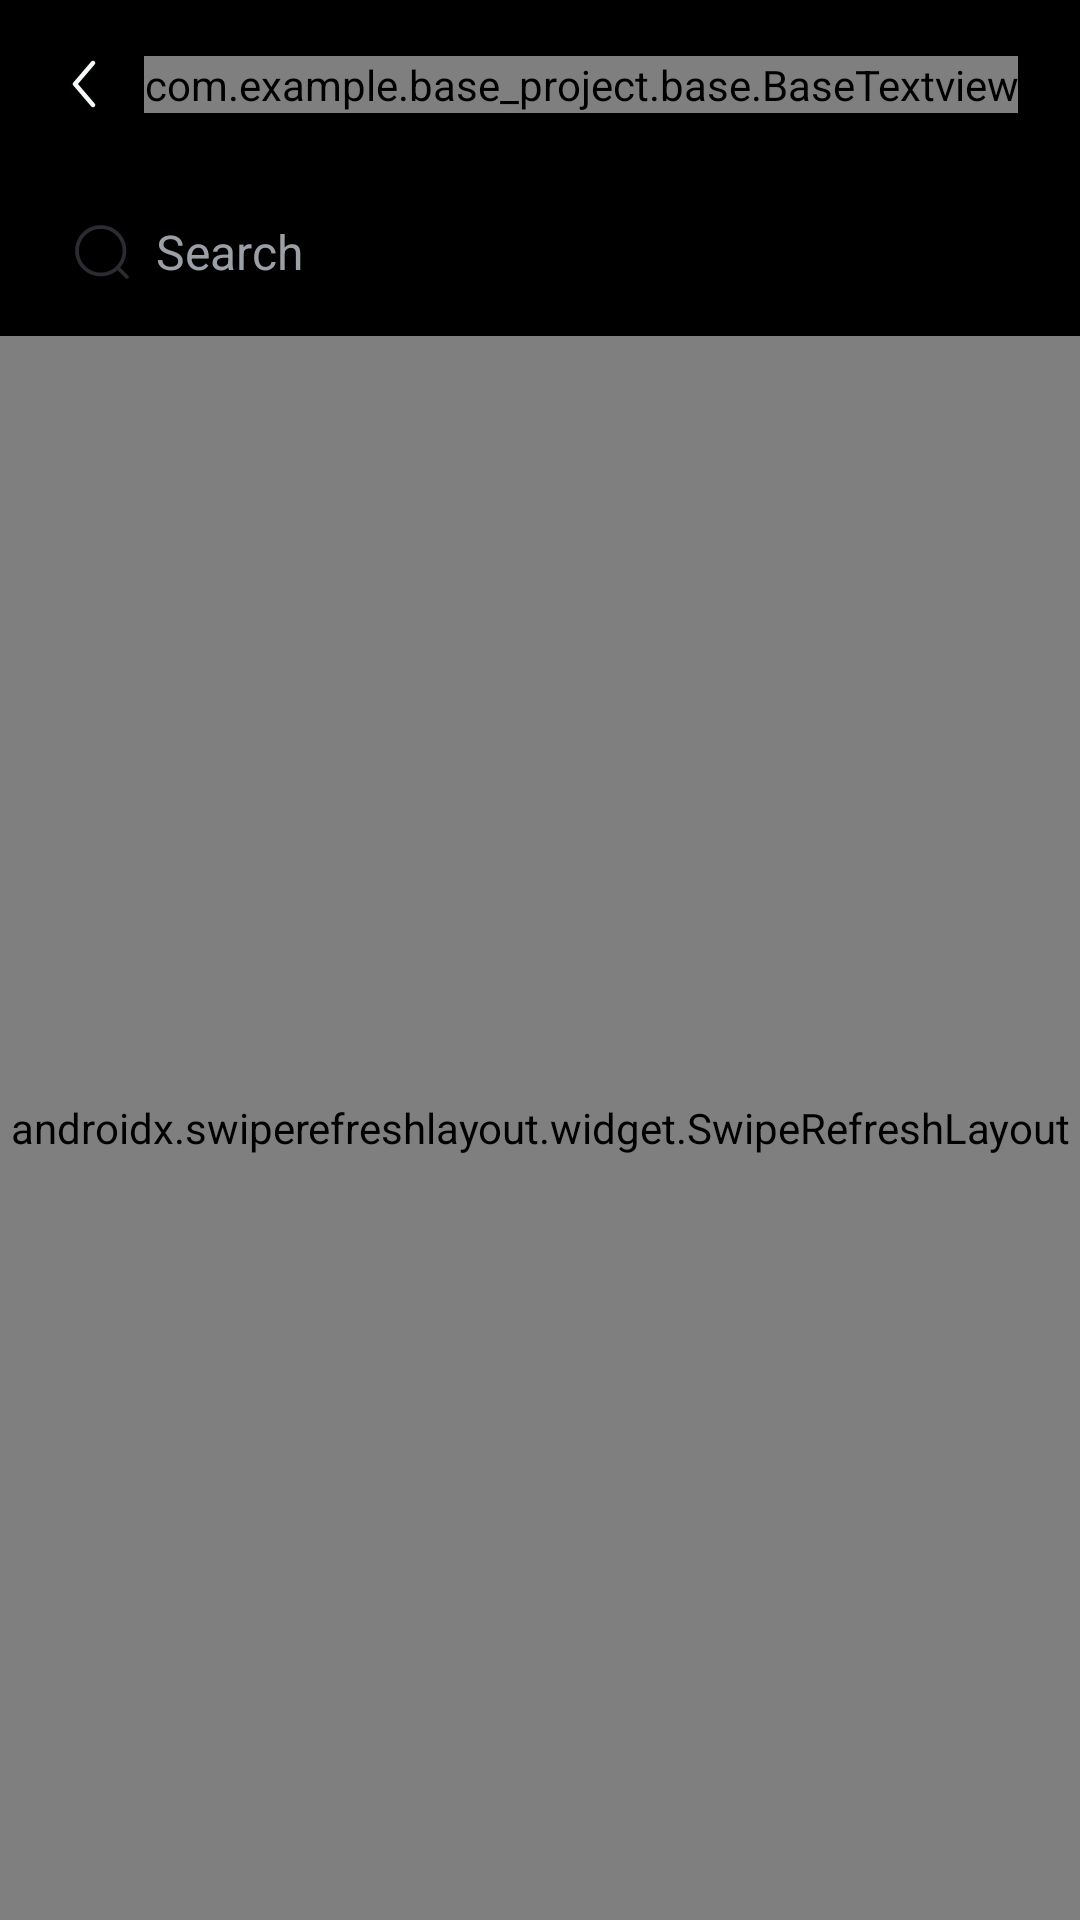

Named icons in this screenshot (1080 x 1920) and their bounding boxes, Rect(x1, y1, x2, y2):
back: Rect(72, 60, 96, 108)
